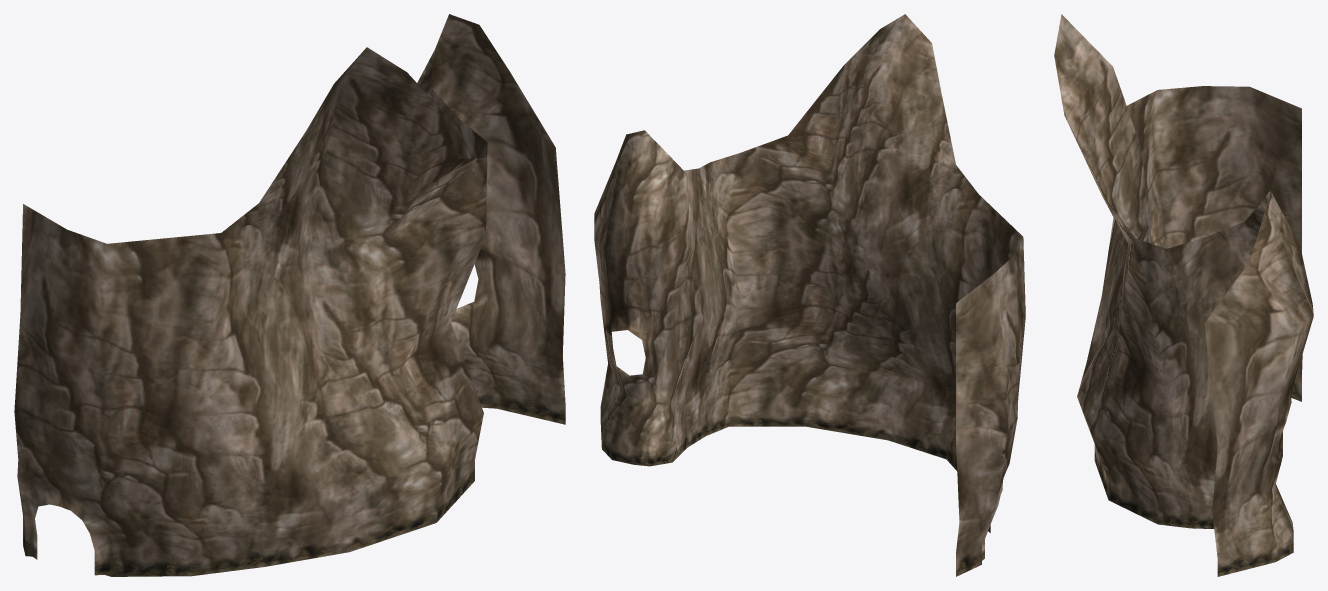
Rendered from OVERHILL_A_01_CAVE_FRONT_WALL.fbx.
3 renders of one model, left to right at view 1: azimuth 30°, elevation 25°; view 2: azimuth 150°, elevation 25°; view 3: azimuth 270°, elevation 25°, orthographic. The views are drawn at different scales.
Visible parts, largest first — view 1: OVERHILL_A_01_CAVE_FRONT_WALL; view 2: OVERHILL_A_01_CAVE_FRONT_WALL; view 3: OVERHILL_A_01_CAVE_FRONT_WALL.
Part boxes in pixels (x1,y1,x2,y2): OVERHILL_A_01_CAVE_FRONT_WALL: [14, 14, 565, 576]; OVERHILL_A_01_CAVE_FRONT_WALL: [594, 14, 1025, 576]; OVERHILL_A_01_CAVE_FRONT_WALL: [1054, 14, 1313, 576].
Size of the model in its own units: 174422 by 173516 by 86272.
2 materials, 2 textured.
